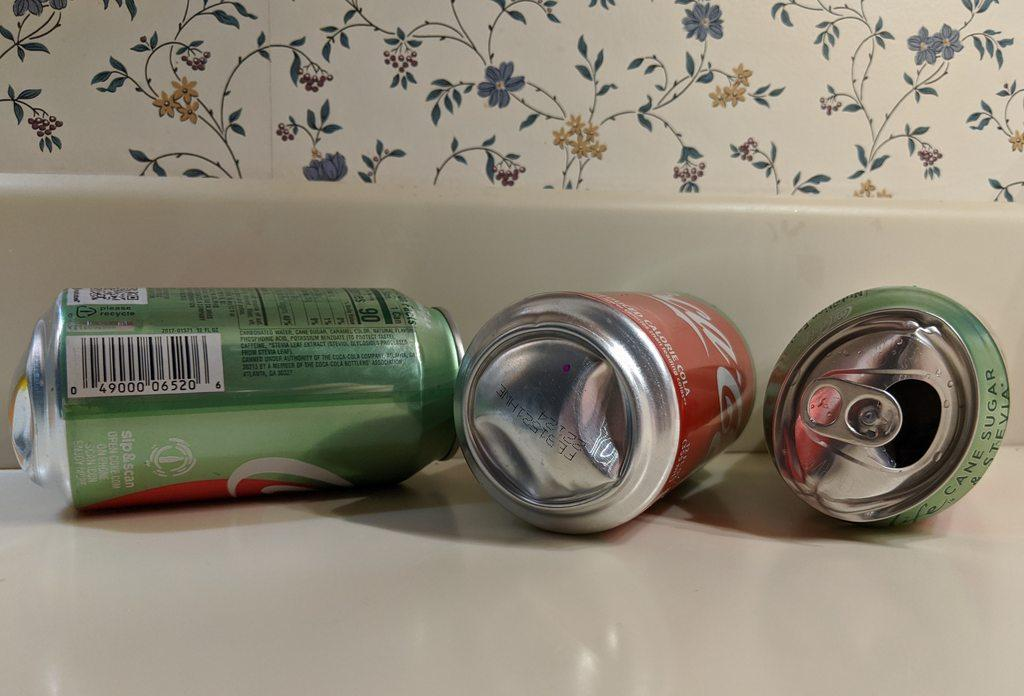metal: (10, 271, 462, 509), (454, 259, 755, 536), (768, 290, 1011, 539)
